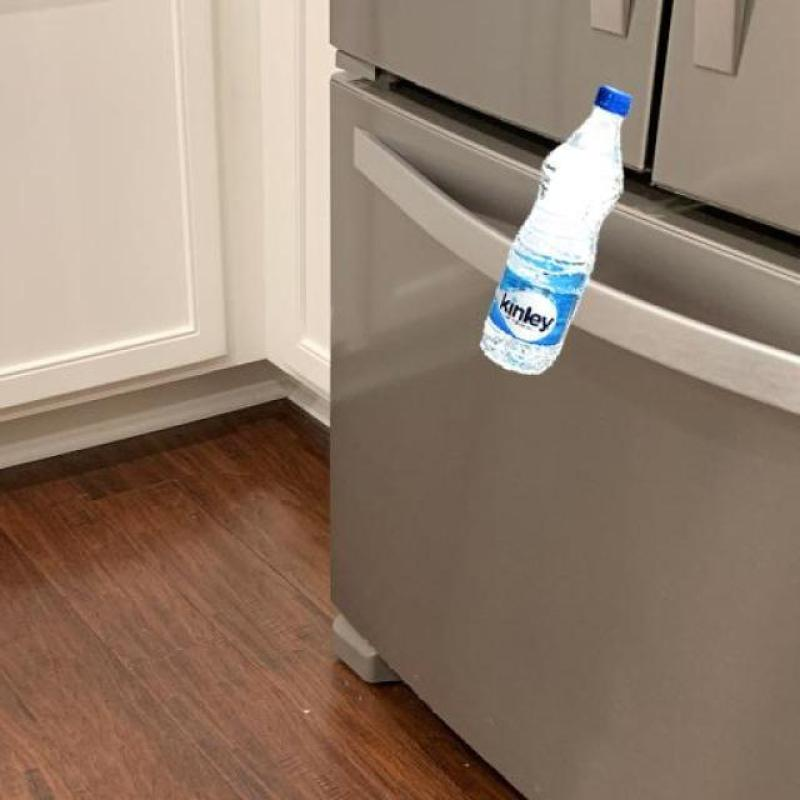botella: (473, 81, 634, 374)
